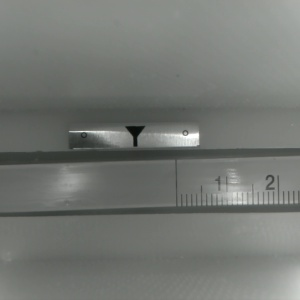1: (214, 177, 220, 191)
2: (264, 175, 274, 190)
finger: (125, 126, 144, 144)
